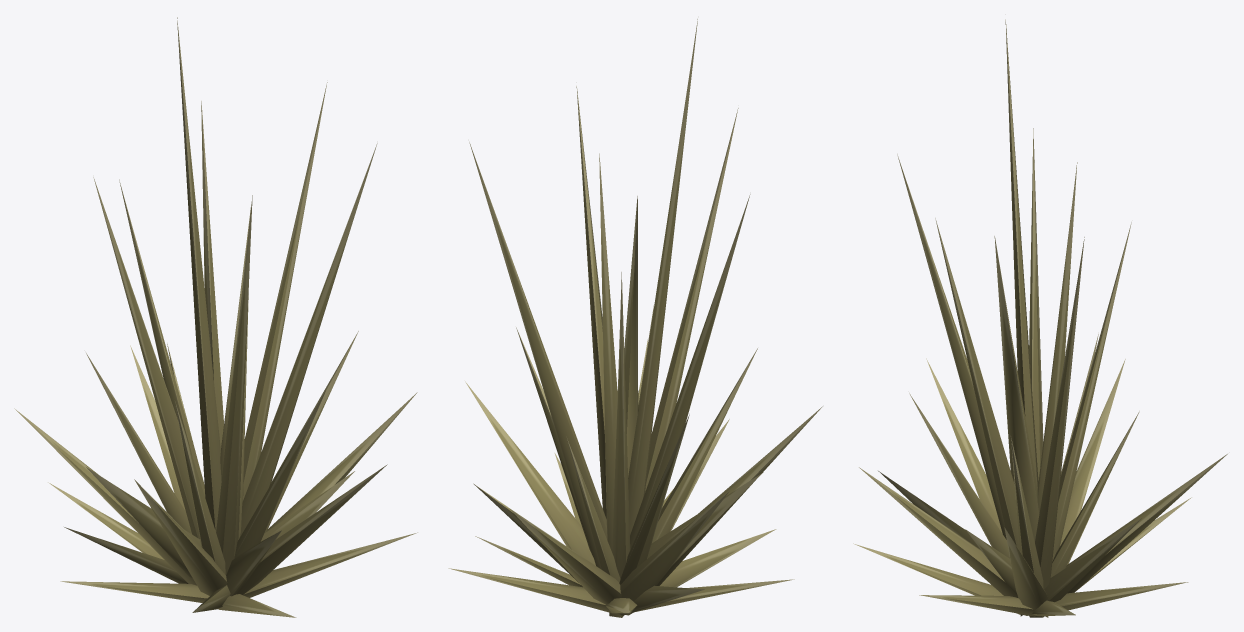
File: DE_Cactus_39.fbx
3 renders of one model, left to right at view 1: azimuth 30°, elevation 25°; view 2: azimuth 150°, elevation 25°; view 3: azimuth 270°, elevation 25°, orthographic. The views are drawn at different scales.
Visible parts, largest first — view 1: DE_Cactus_39; view 2: DE_Cactus_39; view 3: DE_Cactus_39.
Part boxes in pixels (x1,y1,x2,y2): DE_Cactus_39: (14,17,417,617); DE_Cactus_39: (448,19,822,617); DE_Cactus_39: (853,19,1227,617).
Bounding box in the file's own units: 2.4 × 4.06 × 2.41.
